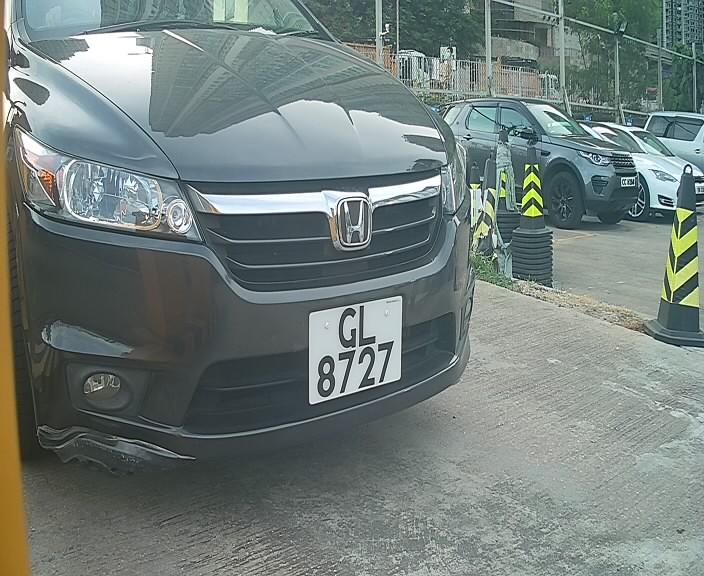Car: (1, 1, 547, 479)
License Plate: (296, 289, 412, 412)
